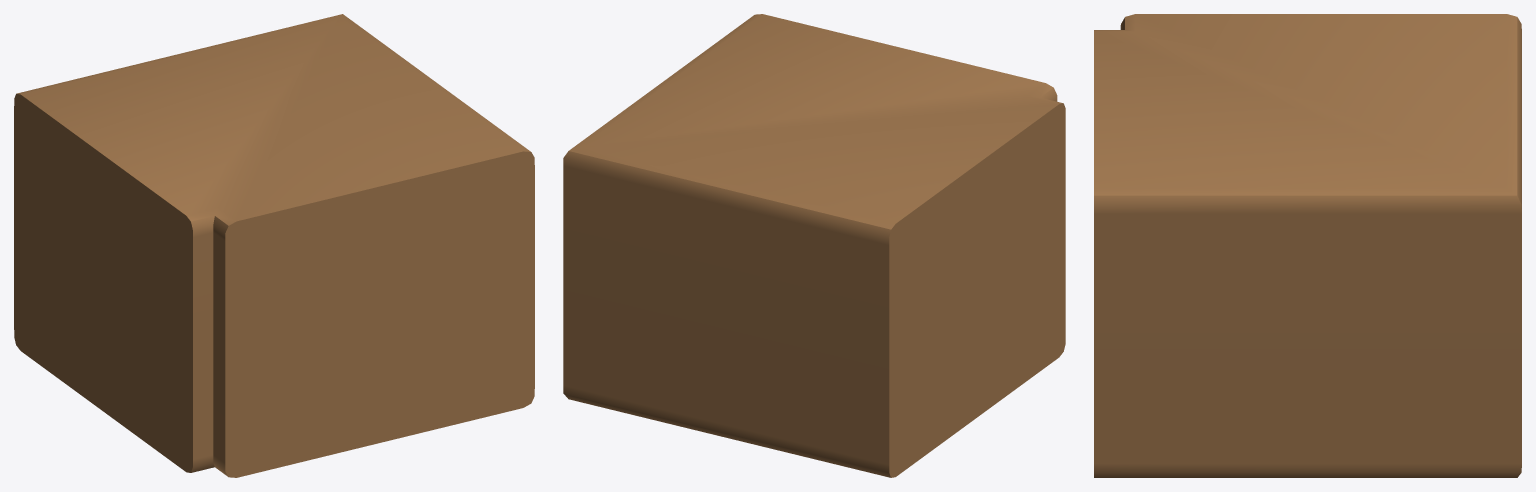
File: Environment_Cabinet_Corner.fbx
3 renders of one model, left to right at view 1: azimuth 30°, elevation 25°; view 2: azimuth 150°, elevation 25°; view 3: azimuth 270°, elevation 25°, orthographic. The views are drawn at different scales.
Parts seen in each view (by area): view 1: Environment_Cabinet_Corner; view 2: Environment_Cabinet_Corner; view 3: Environment_Cabinet_Corner.
Part boxes in pixels (left/top/right/bottom): Environment_Cabinet_Corner: left=14, top=14, right=534, bottom=477; Environment_Cabinet_Corner: left=563, top=14, right=1065, bottom=477; Environment_Cabinet_Corner: left=1094, top=14, right=1521, bottom=477.
Size of the model in its own units: 188 by 140 by 188.
